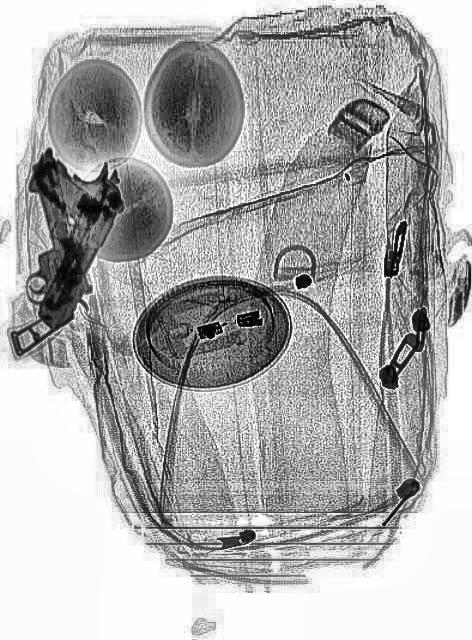Gun: (0, 132, 136, 330), (0, 144, 96, 340)
